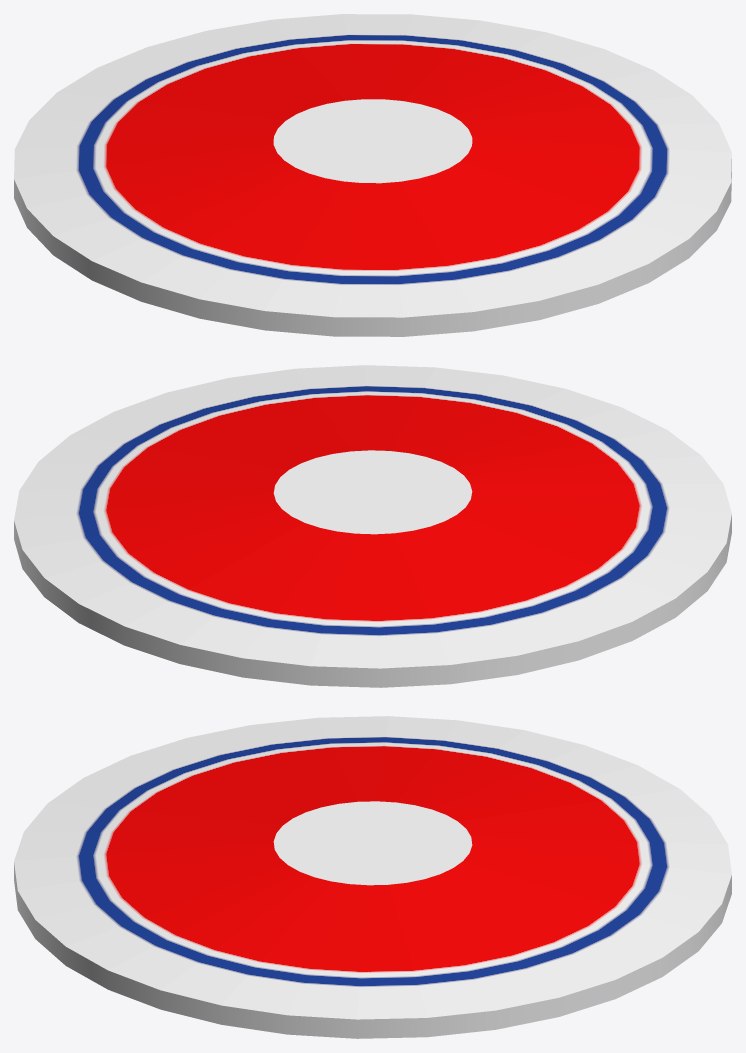
File: Disc_Woman.FBX
3 views of the same model, one above another, from view 1: azimuth 30°, elevation 25°; view 2: azimuth 150°, elevation 25°; view 3: azimuth 270°, elevation 25° (orthographic).
Parts seen in each view (by area): view 1: Disc_woman; view 2: Disc_woman; view 3: Disc_woman.
Part boxes in pixels (x1,y1,x2,y2): Disc_woman: (14,14,731,336); Disc_woman: (14,365,731,687); Disc_woman: (14,716,731,1038).
Size of the model in its own units: 1.82 by 0.1911 by 1.82.
